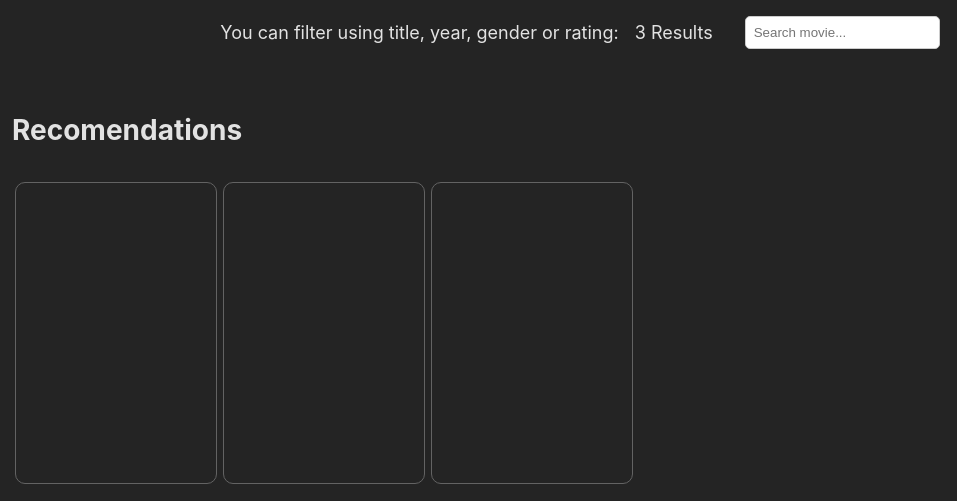
MoviesList › should shown a message when there are no results when filter
The width and height of the screenshot is (957, 501).
In the field with placeholder "Search movie...": (842, 32) [745,16,940,49], type "A movie"
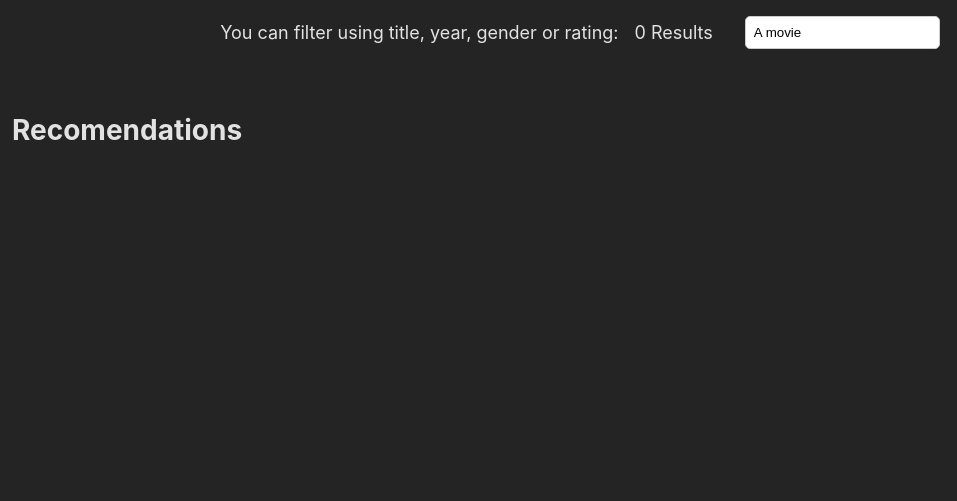
expect the text "0 Results" is shown: met, box [635,19,713,46]
